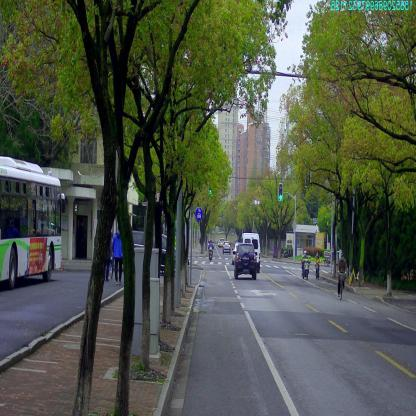traffic-light: (279, 183, 283, 201), (209, 178, 212, 195)
